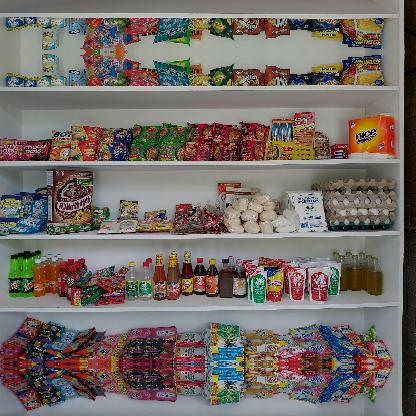Koko-Krunch: (46, 167, 96, 235)
